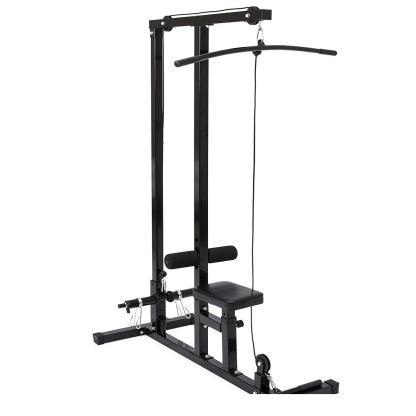Lat Pull Down: (87, 6, 367, 397)
